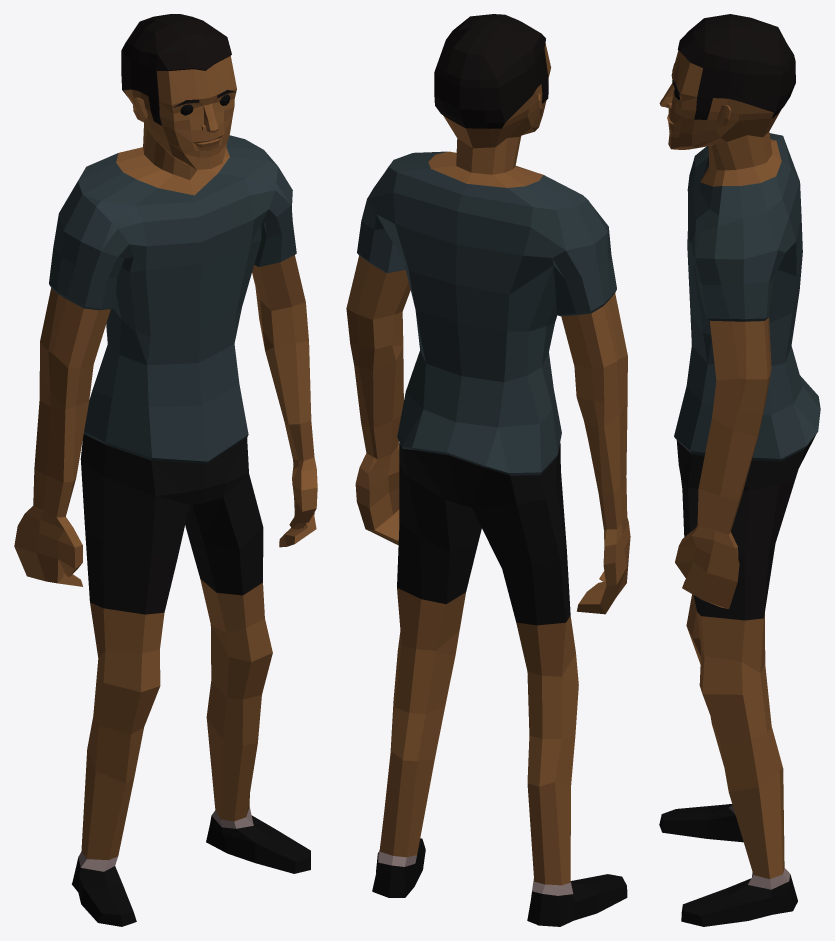
The picture shows the model from 3 angles, left to right: view 1: azimuth 30°, elevation 25°; view 2: azimuth 150°, elevation 25°; view 3: azimuth 270°, elevation 25°; orthographic projection. The views are drawn at different scales.
Visible parts, largest first — view 1: BaseHuman_static; view 2: BaseHuman_static; view 3: BaseHuman_static.
Part boxes in pixels (x1,y1,x2,y2): BaseHuman_static: (14,14,317,926); BaseHuman_static: (346,14,630,926); BaseHuman_static: (659,14,820,926).
Bounding box in the file's own units: 1.61 × 4.82 × 0.8284.
